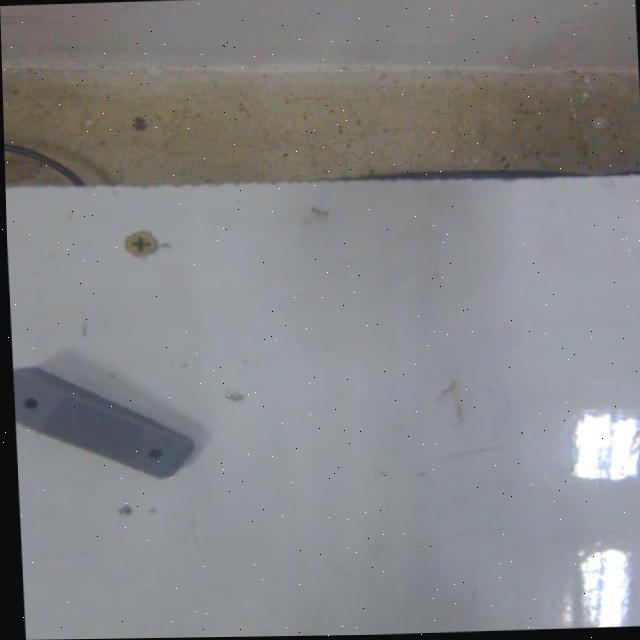grey: (12, 359, 198, 484)
head: (143, 442, 165, 461)
